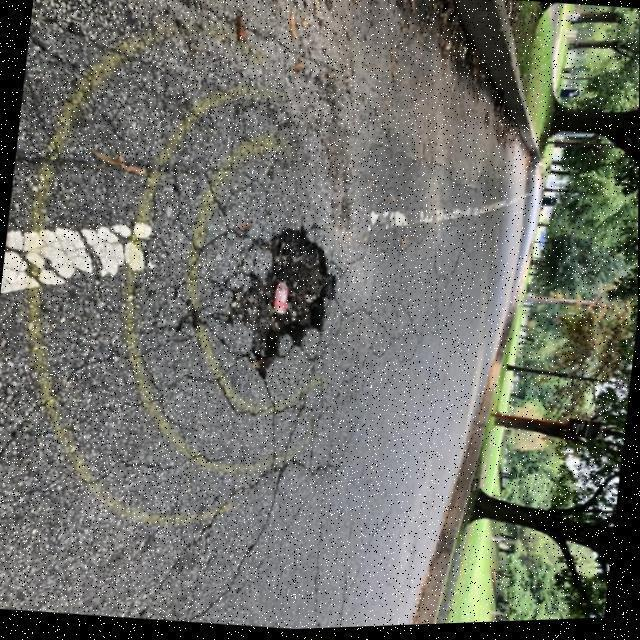Pothole: (220, 226, 344, 373)
